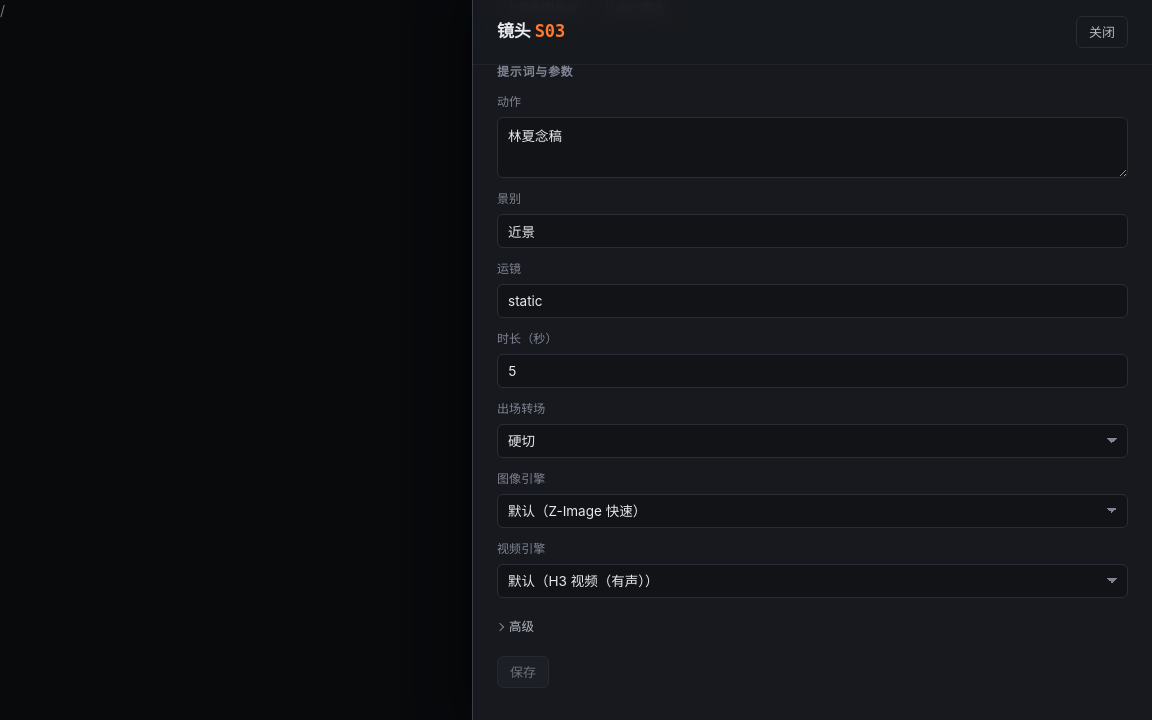
ShotDrawer 资产 › 构图参考的「不吃参考图」提示按抽屉里正在选的图像引擎算（还没保存也即时变）
(page scrolled)
Select "Gemini 网页" in the dropdown labelled "图像引擎": (812, 511) x1=497 y1=494 x2=1128 y2=528
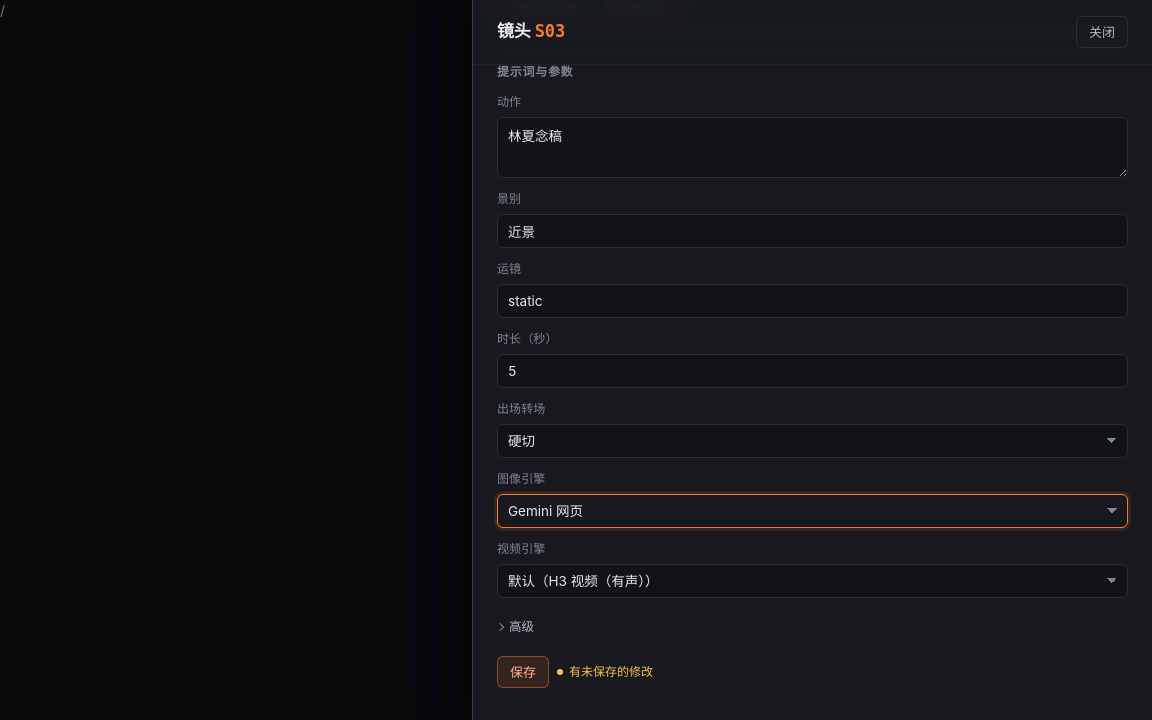
Select "Z-Image 快速" in the dropdown labelled "图像引擎": (812, 511) x1=497 y1=494 x2=1128 y2=528
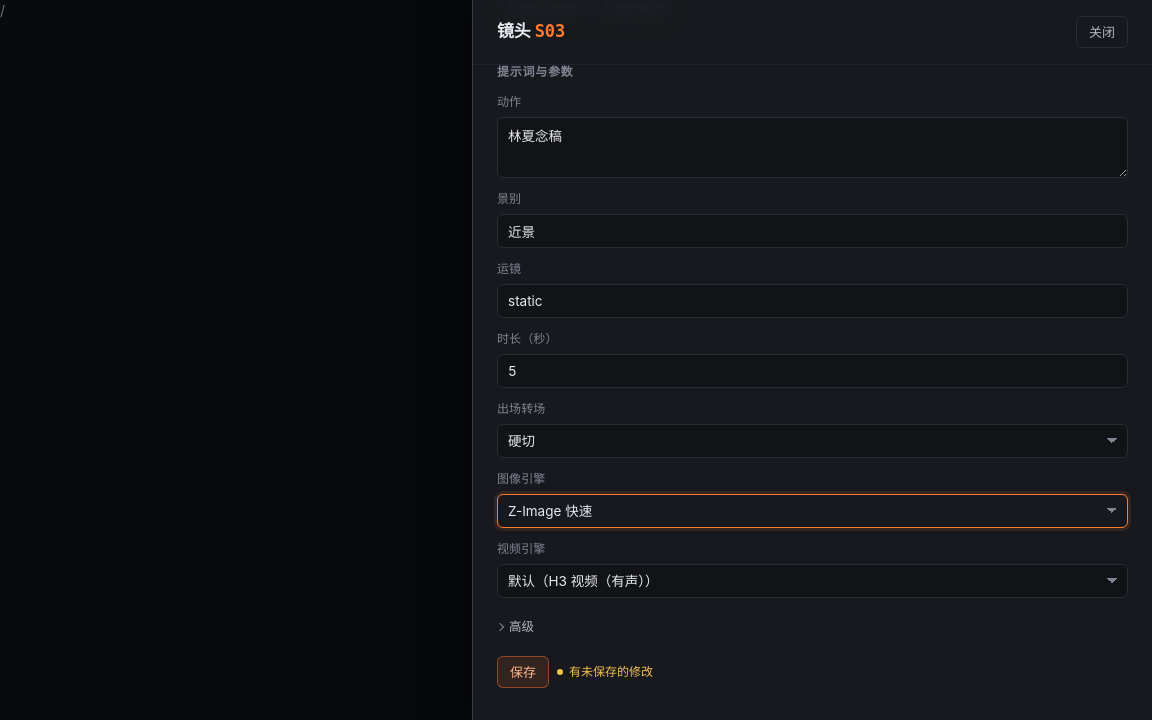
Select "默认（Z-Image 快速）" in the dropdown labelled "图像引擎": (812, 511) x1=497 y1=494 x2=1128 y2=528
(page scrolled)
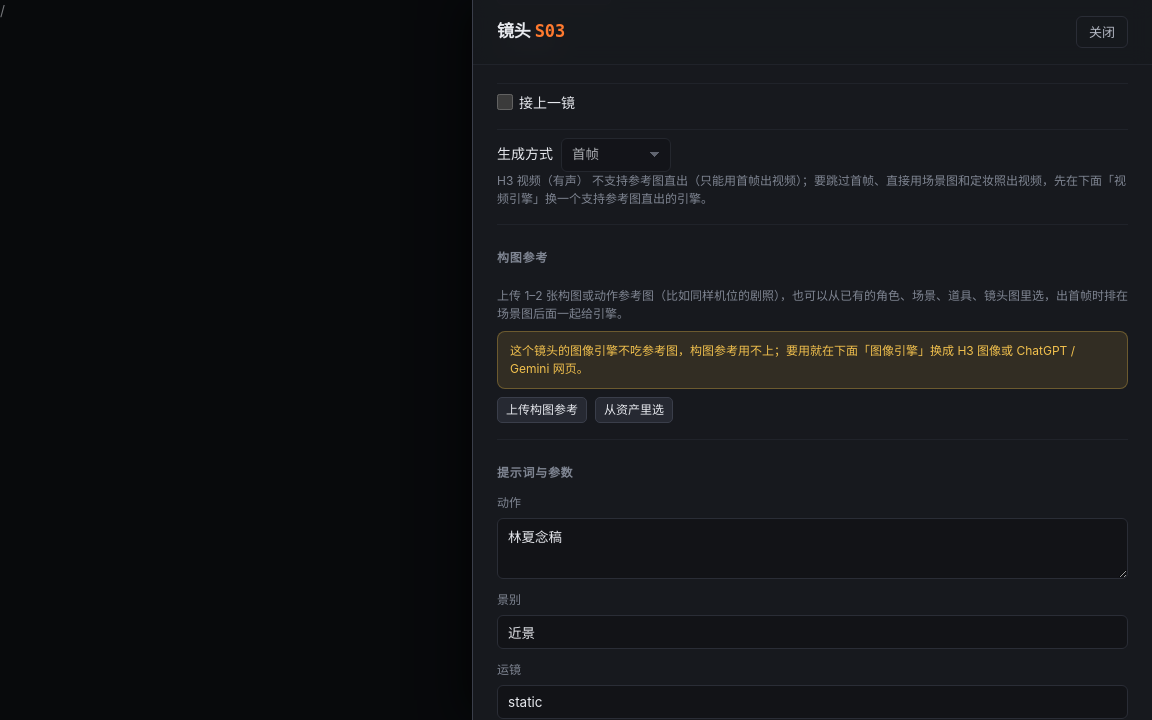
Check: the text with test id "refs-unsupported" is shown, box x1=497 y1=330 x2=1128 y2=388
